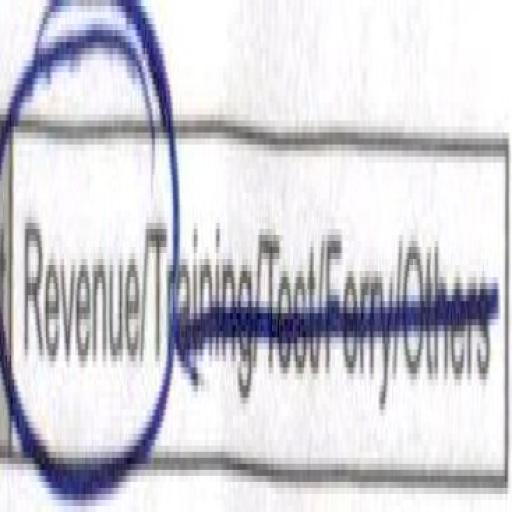check: (5, 0, 155, 512)
